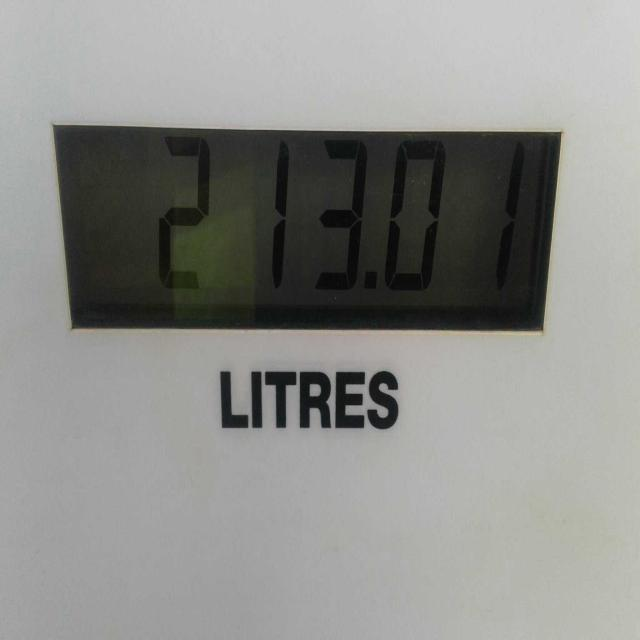.: (362, 266, 378, 308)
0: (379, 136, 456, 308)
1: (478, 129, 528, 311), (256, 131, 298, 300)
2: (157, 127, 226, 304)
3: (316, 140, 367, 288)
